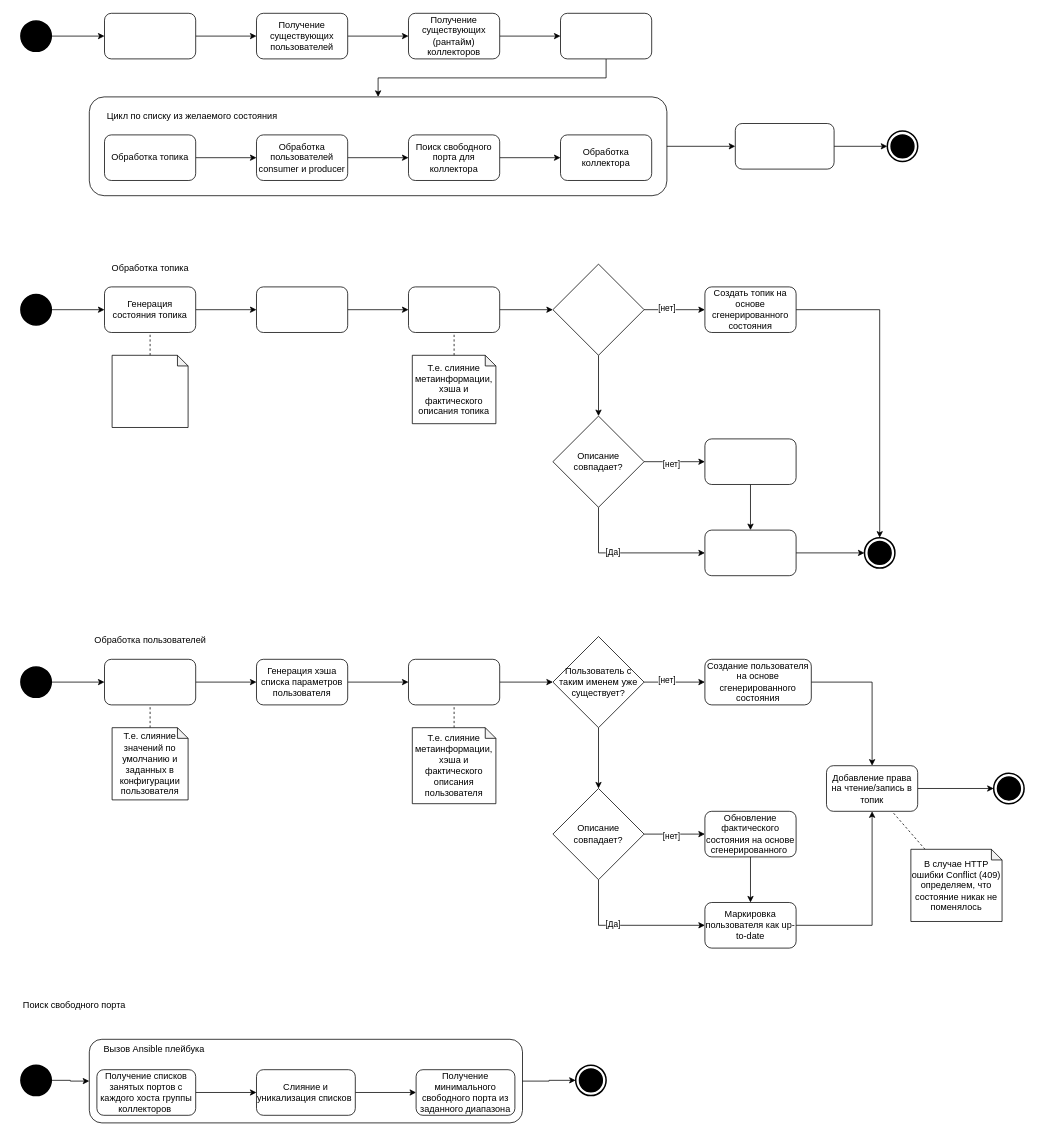
Image size: 1037x1136. Some labels were removed from this diagram. The centre of each missing label's shape, as x and y in pixels:
Генерация описания пользователя: the point at 454,682
Генерация описания топика: the point at 454,309
Генерация состояния пользователя: the point at 150,682
Генерация хэша списка параметров топика: the point at 302,309
Обновить состояние на основе сгенерированного: the point at 750,461
Парсинг конфигурации желаемого состояния: the point at 606,36
Получение существующих топиков: the point at 150,36
Промаркировать топик как up-to-date: the point at 750,552
Т.е. слияние значений по умолчанию и заданных в конфигурации топика: the point at 149,391
Топик с таким именем уже существует?: the point at 598,309
Удаление непромаркированных сущностей: the point at 784,146
